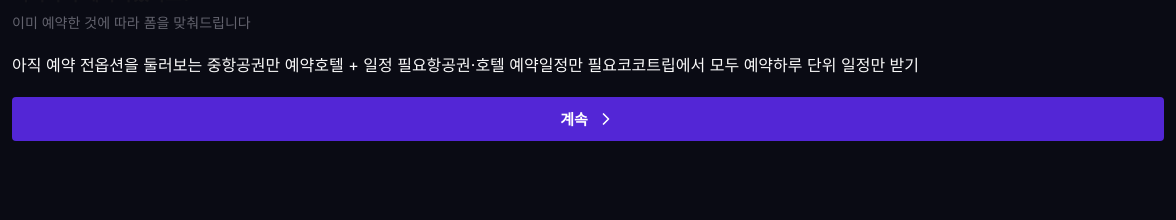
Test: 예약 상황 스텝 — 회색 버튼 대신 이유를 말한다 › 아무것도 안 고르고 누르면 — 진행 안 되고, 무엇이 빠졌는지 뜬다
Click the button "계속" at (588, 119), box x1=12 y1=97 x2=1164 y2=141
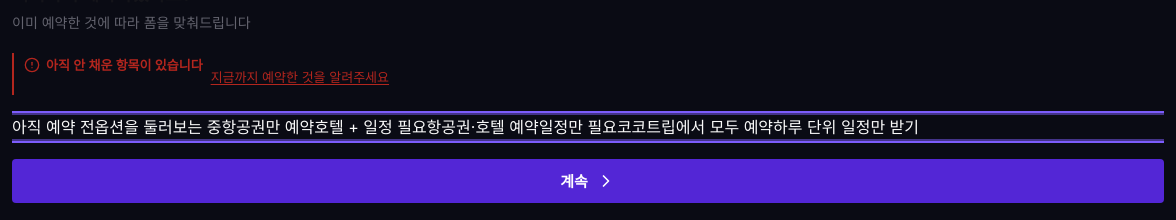
Result: the text "아직 안 채운 항목이 있습니다" is shown at x1=24 y1=55 x2=203 y2=75
Result: the button "지금까지 예약한 것을 알려주세요" is shown at x1=211 y1=61 x2=389 y2=93
